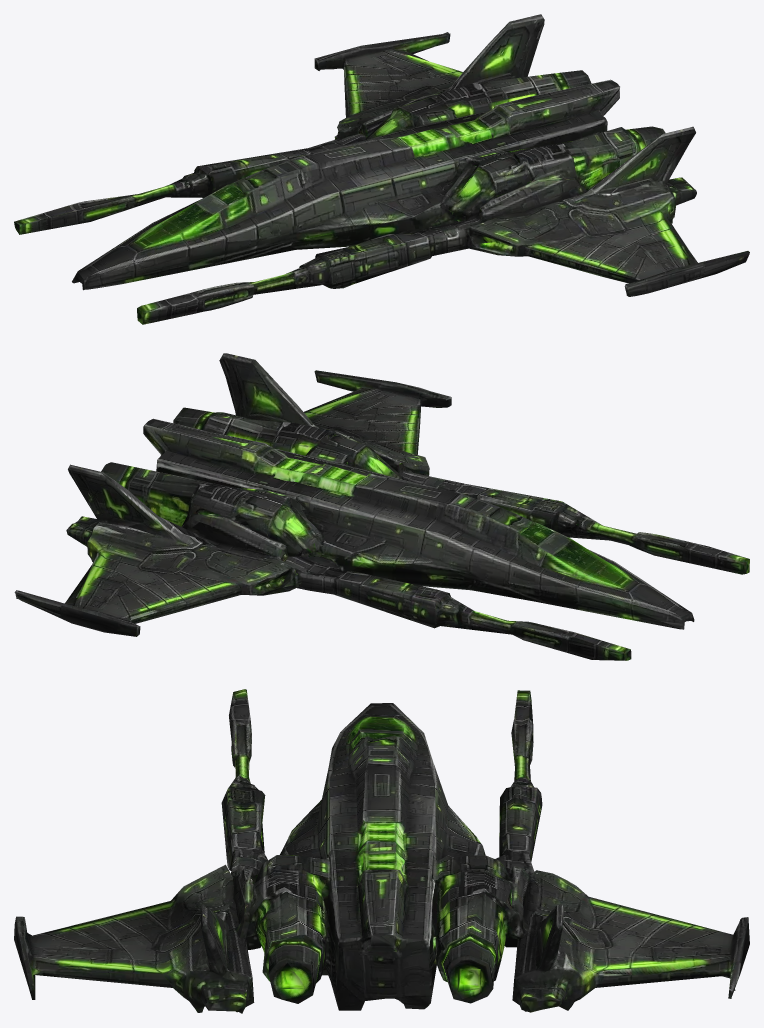
The model's file is mint.glb.
3 views of the same model, one above another, from view 1: azimuth 30°, elevation 25°; view 2: azimuth 150°, elevation 25°; view 3: azimuth 270°, elevation 25° (orthographic). The views are drawn at different scales.
Visible parts, largest first — view 1: Mesh0; view 2: Mesh0; view 3: Mesh0.
Boxes of the visible parts, left/top/right/bottom form: Mesh0: left=14, top=14, right=749, bottom=324; Mesh0: left=14, top=353, right=749, bottom=660; Mesh0: left=14, top=689, right=749, bottom=1013.
Size of the model in its own units: 1.9 by 0.3101 by 1.9.
Materials: 1 (1 with a texture image).
